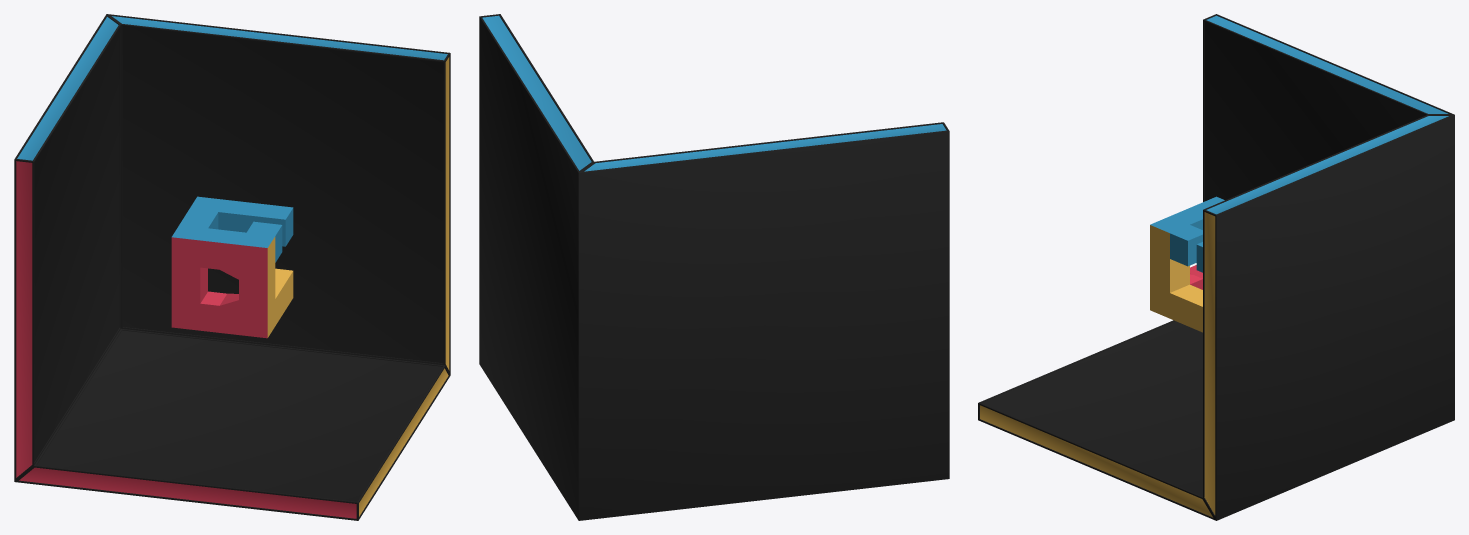
Rendered from GDL.gltf.
3 renders of one model, left to right at view 1: azimuth 30°, elevation 25°; view 2: azimuth 150°, elevation 25°; view 3: azimuth 270°, elevation 25°, orthographic. The views are drawn at different scales.
Parts seen in each view (by area): view 1: Logo_1.009, Logo_1; view 2: Logo_1.009; view 3: Logo_1.009, Logo_1.
Boxes of the visible parts, x1,y1,x2,y2 form: Logo_1.009: (14, 14, 450, 520); Logo_1: (171, 196, 293, 338); Logo_1.009: (479, 14, 949, 520); Logo_1.009: (978, 14, 1454, 520); Logo_1: (1150, 196, 1224, 332).
Bounding box in the file's own units: 5.37 × 3.8 × 5.37.
